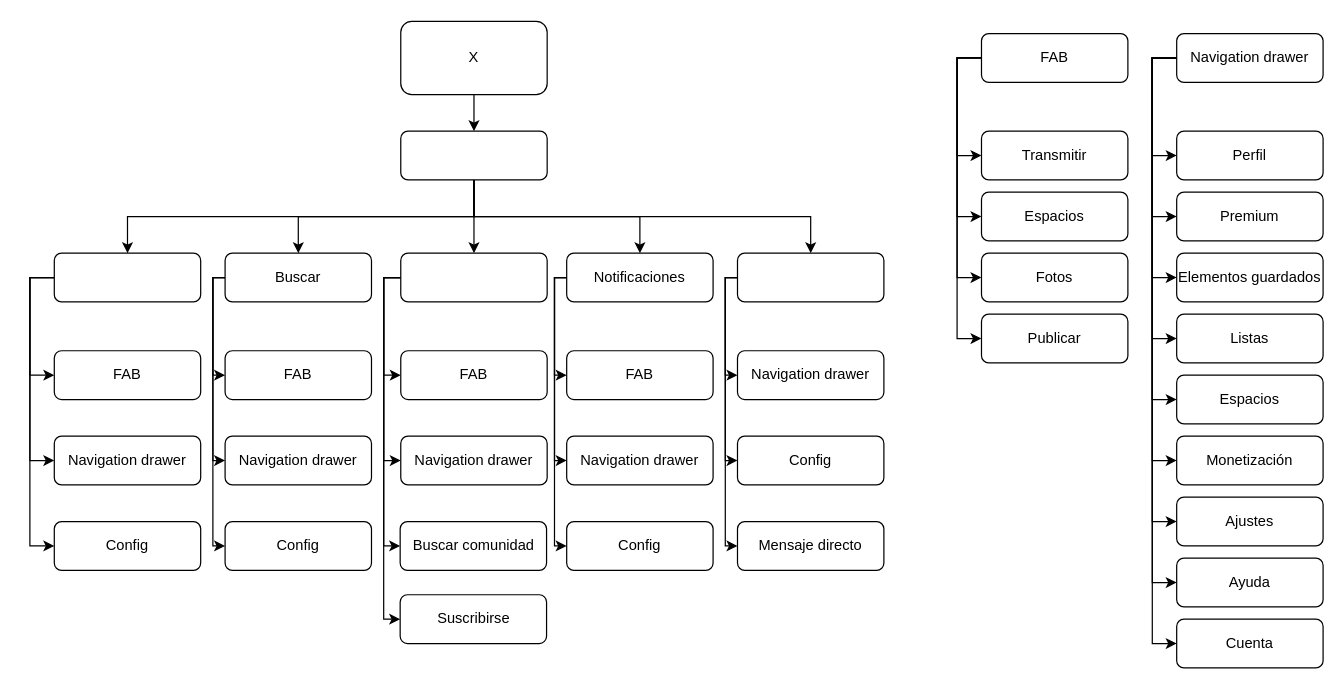
Some shapes in this 1344 by 689 pixel diagram are drawn without their labels. The centre of each missing label's shape, as x and y in pixels:
"Comunidades" goes at point (473, 277).
"Inicio" goes at point (127, 277).
"Login" goes at point (473, 155).
"Mensajes Directos" goes at point (810, 277).
